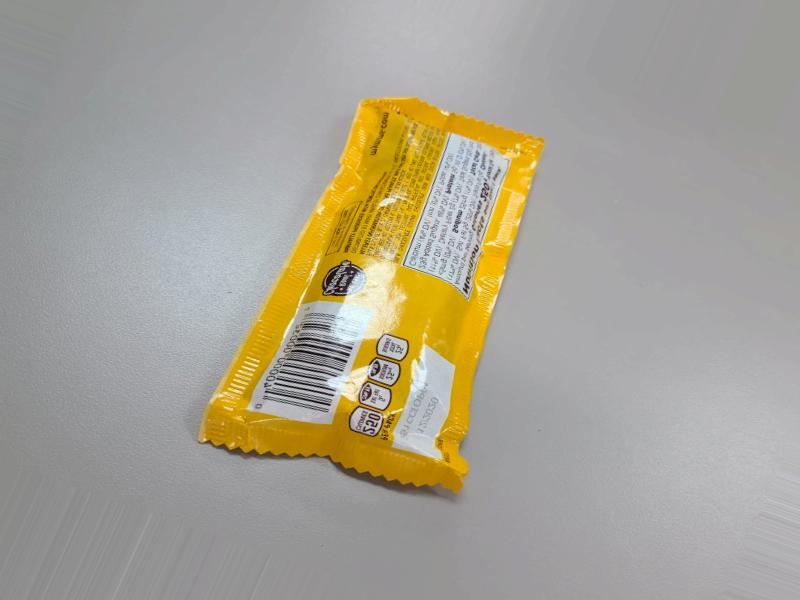m&m: (198, 87, 542, 498)
